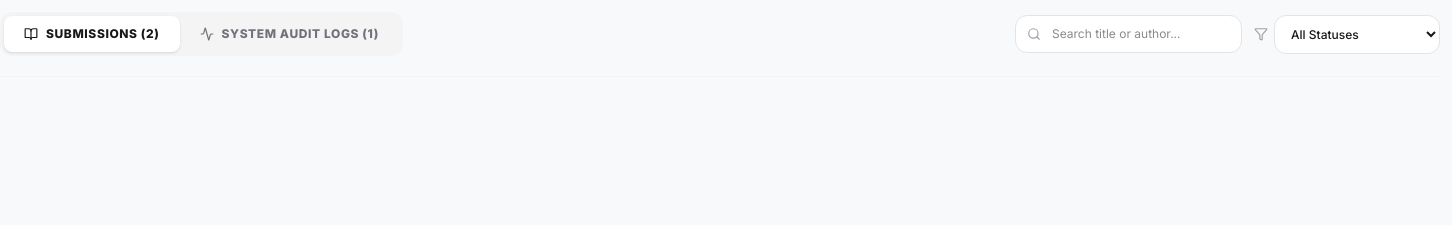
SubmissionsModeration › filters submissions by search text
Type "Another" into the field with placeholder "Search title or author..." at (1128, 34), box [1015,15,1242,53]
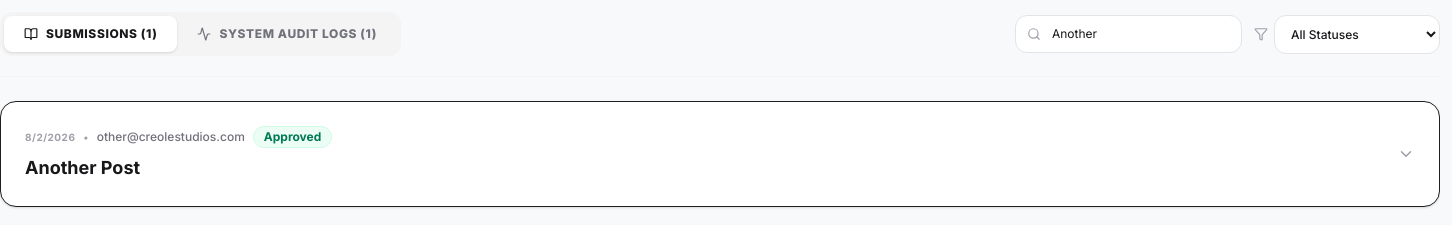
Expected: the heading "Another Post" is shown, [25,157,140,178]
